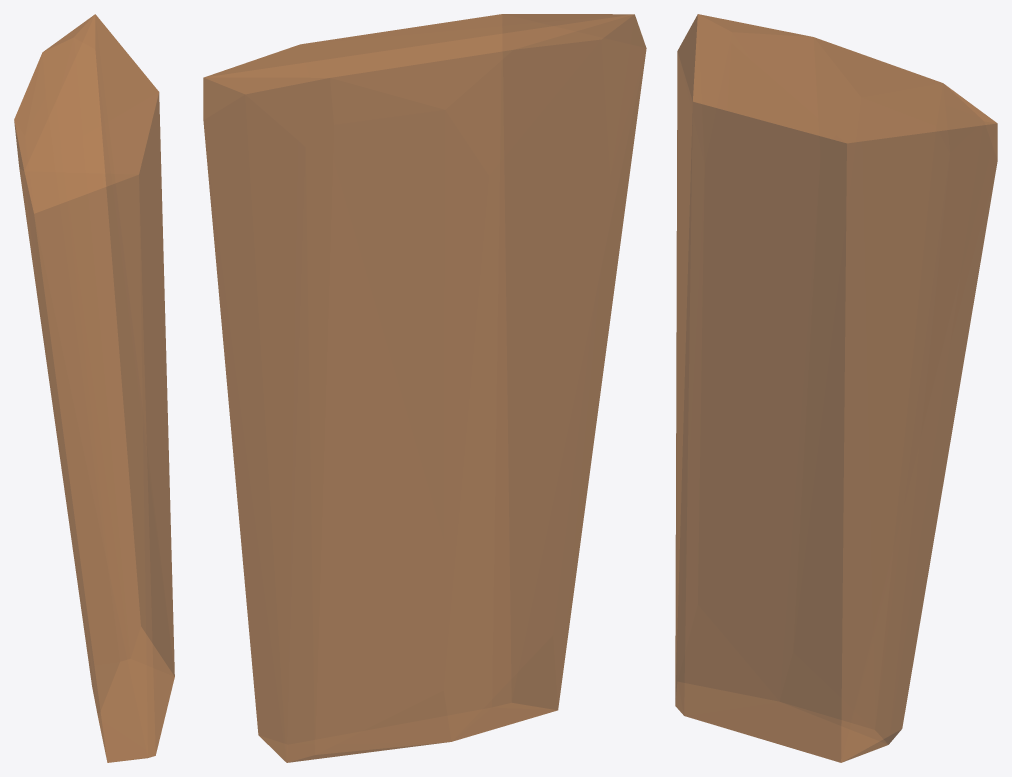
3 views of the same model, side by side, from view 1: azimuth 30°, elevation 25°; view 2: azimuth 150°, elevation 25°; view 3: azimuth 270°, elevation 25° (orthographic). The views are drawn at different scales.
Parts seen in each view (by area): view 1: Shape_IndexedFaceSet.023_Shape_IndexedFaceSet.10848; view 2: Shape_IndexedFaceSet.023_Shape_IndexedFaceSet.10848; view 3: Shape_IndexedFaceSet.023_Shape_IndexedFaceSet.10848.
Part boxes in pixels (box(x1,y1,x2,y2)): Shape_IndexedFaceSet.023_Shape_IndexedFaceSet.10848: box(14, 14, 174, 762); Shape_IndexedFaceSet.023_Shape_IndexedFaceSet.10848: box(203, 14, 646, 762); Shape_IndexedFaceSet.023_Shape_IndexedFaceSet.10848: box(675, 14, 997, 762).
Size of the model in its own units: 0.3691 by 0.9824 by 0.4498.
